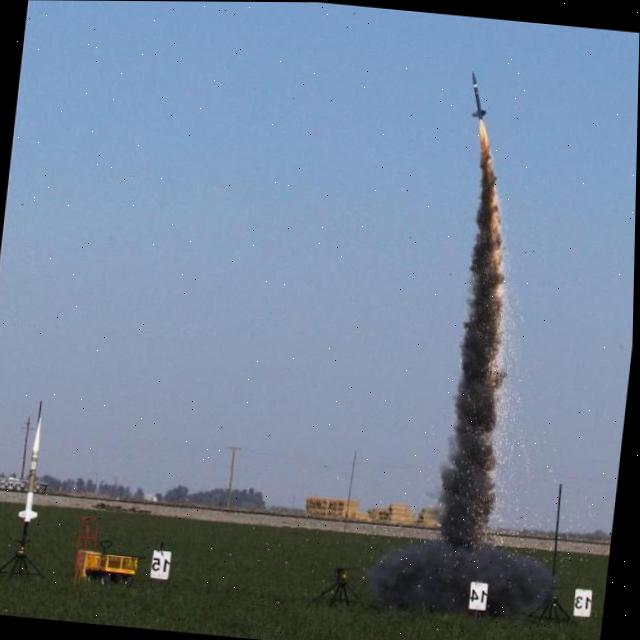missile: (12, 409, 57, 524), (458, 67, 500, 123)
